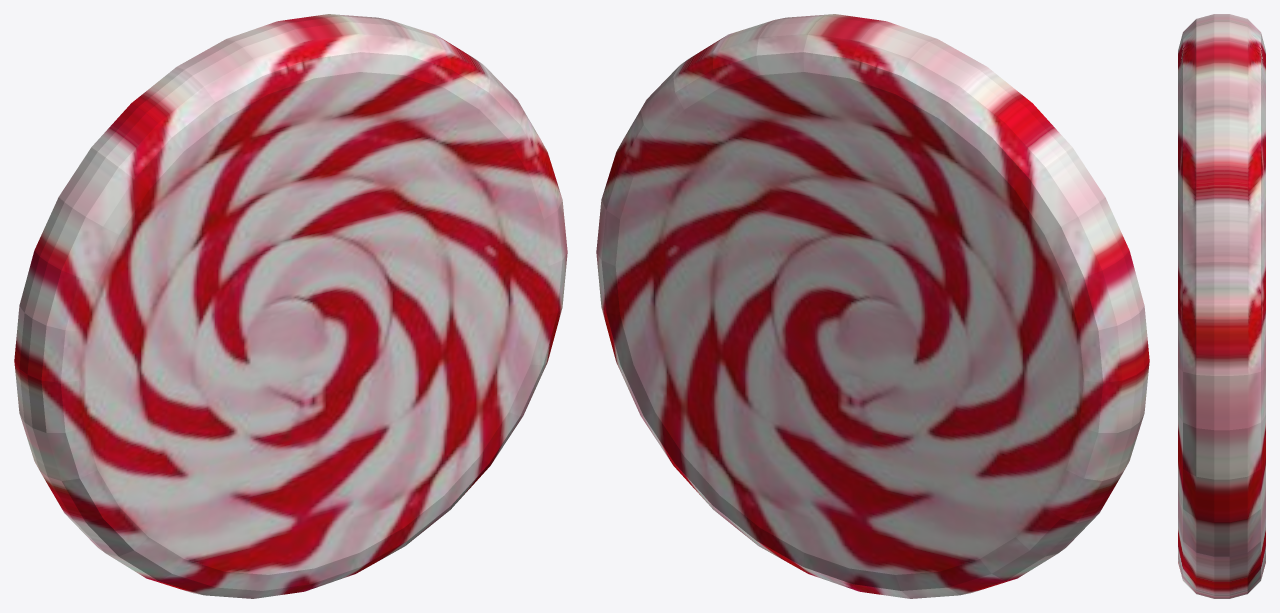
File: Loli-Flach-Spirale-CW.gltf
The picture shows the model from 3 angles, left to right: view 1: azimuth 30°, elevation 25°; view 2: azimuth 150°, elevation 25°; view 3: azimuth 270°, elevation 25°; orthographic projection. The views are drawn at different scales.
Visible parts, largest first — view 1: Loli-Flach-Spirale-CW; view 2: Loli-Flach-Spirale-CW; view 3: Loli-Flach-Spirale-CW.
Part boxes in pixels (x1=…): Loli-Flach-Spirale-CW: x1=14, y1=14, x2=567, y2=598; Loli-Flach-Spirale-CW: x1=596, y1=14, x2=1149, y2=598; Loli-Flach-Spirale-CW: x1=1178, y1=14, x2=1265, y2=598.
Size of the model in its own units: 2 by 2 by 0.3.
1 material, 1 textured.
